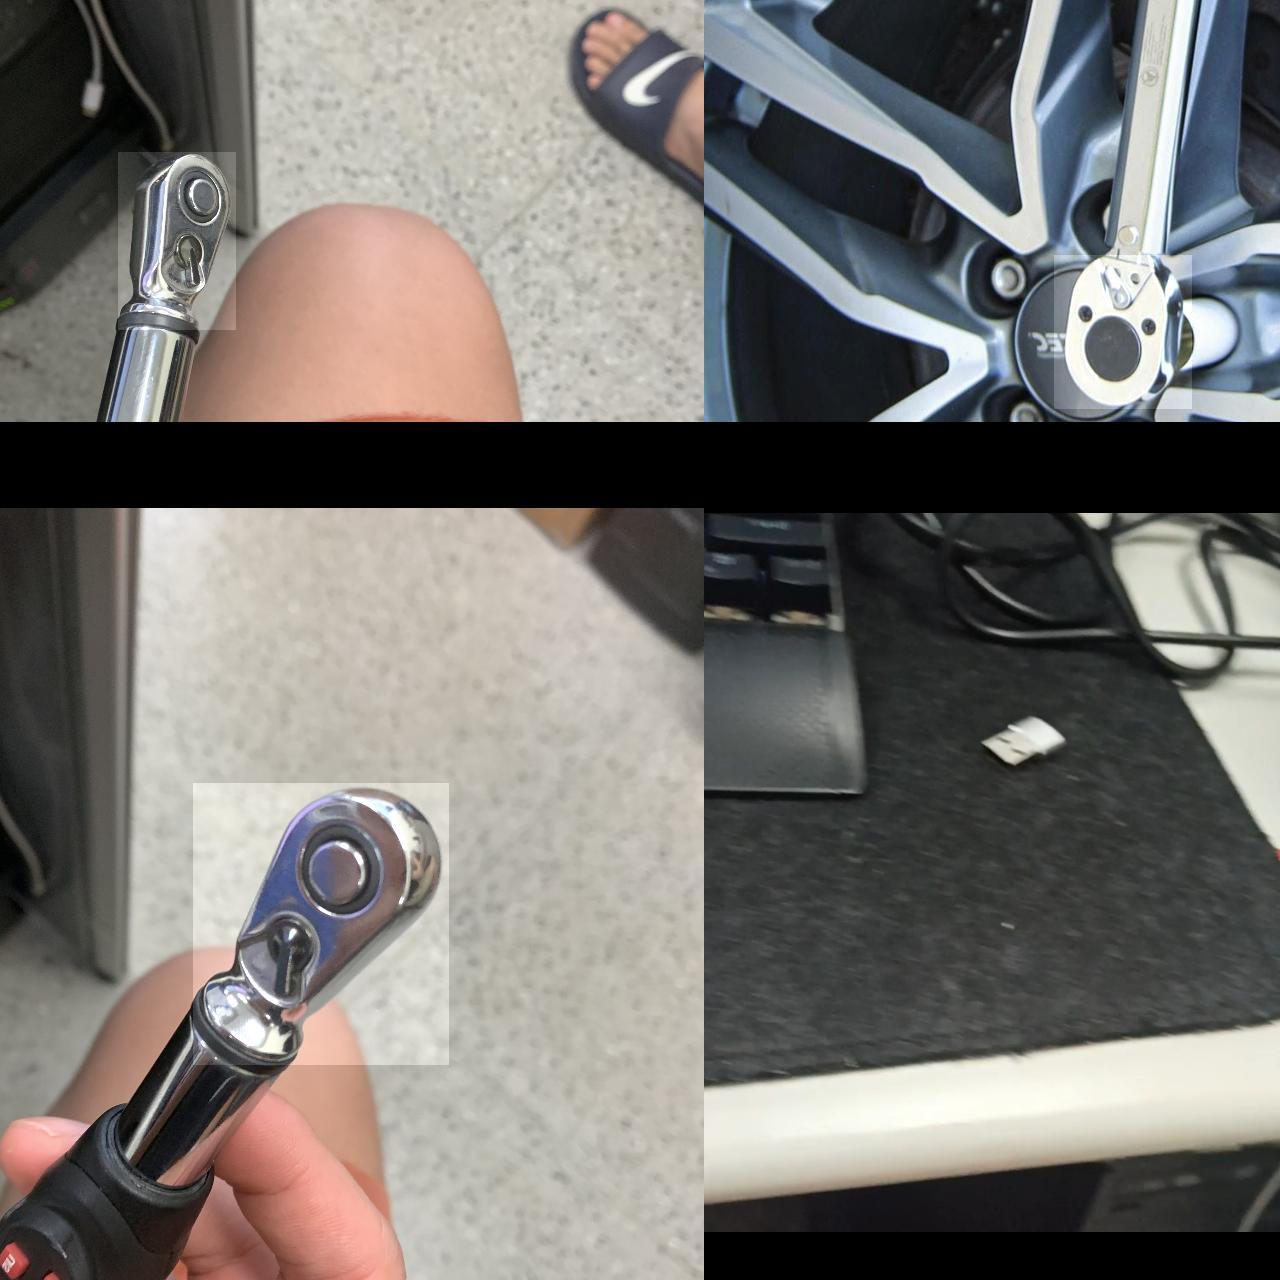Tool: (193, 782, 449, 1064), (1054, 254, 1192, 408), (118, 151, 236, 329)
